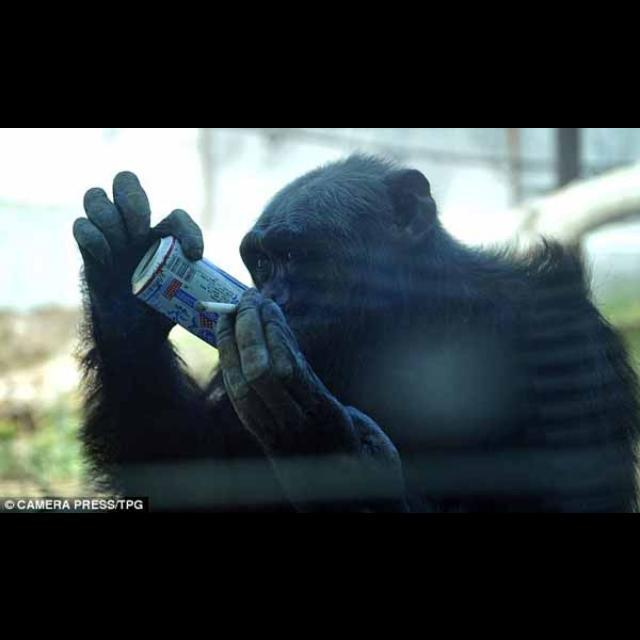rokok: (195, 294, 241, 316)
